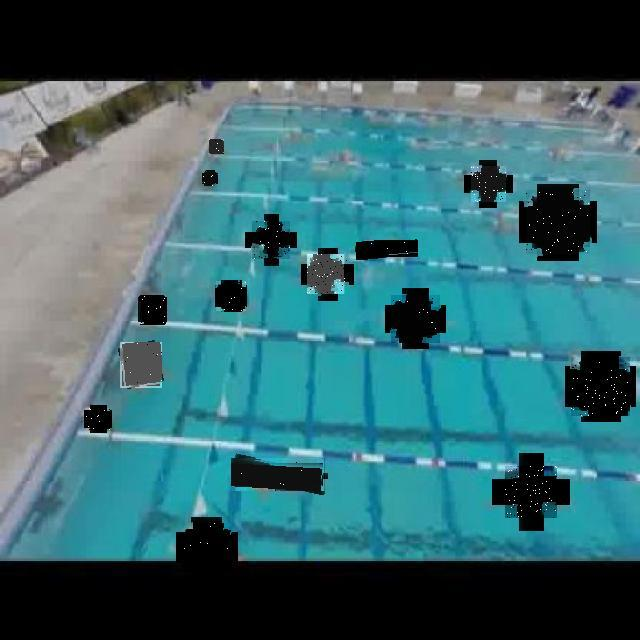swimming: (526, 190, 590, 254), (571, 357, 630, 416), (232, 458, 328, 491), (505, 466, 557, 518), (183, 523, 231, 572), (391, 295, 440, 343), (120, 342, 162, 388), (308, 254, 348, 294), (252, 221, 290, 259), (471, 166, 506, 202), (356, 240, 418, 258), (216, 281, 246, 311), (139, 296, 166, 324), (86, 408, 110, 430), (209, 139, 224, 154), (203, 171, 217, 186)
